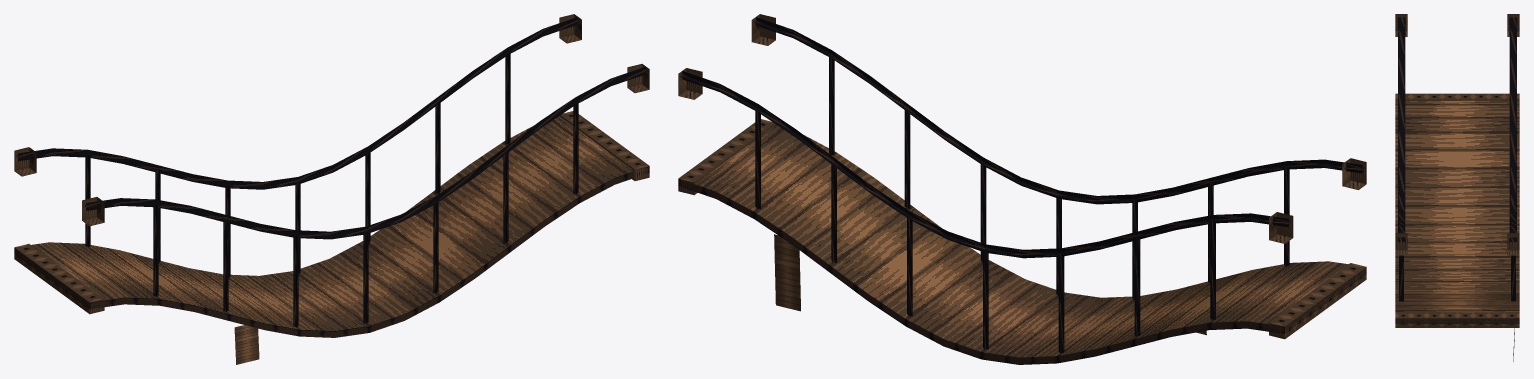
The model's file is PUE-04_Pasarela_colgada.gltf.
3 views of the same model, side by side, from view 1: azimuth 30°, elevation 25°; view 2: azimuth 150°, elevation 25°; view 3: azimuth 270°, elevation 25° (orthographic). The views are drawn at different scales.
Visible parts, largest first — view 1: PUE-04_Pasarela_colgada-col; view 2: PUE-04_Pasarela_colgada-col; view 3: PUE-04_Pasarela_colgada-col.
Part boxes in pixels (left/top/right/bottom): PUE-04_Pasarela_colgada-col: left=14, top=14, right=649, bottom=364; PUE-04_Pasarela_colgada-col: left=678, top=14, right=1366, bottom=364; PUE-04_Pasarela_colgada-col: left=1395, top=14, right=1519, bottom=361.
Size of the model in its own units: 6 by 2 by 1.4.
1 material, 1 textured.
